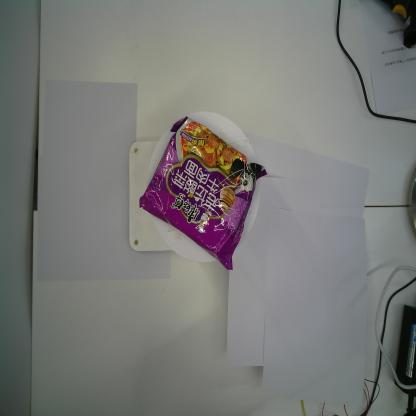Instant Noodles: (138, 115, 268, 271)
